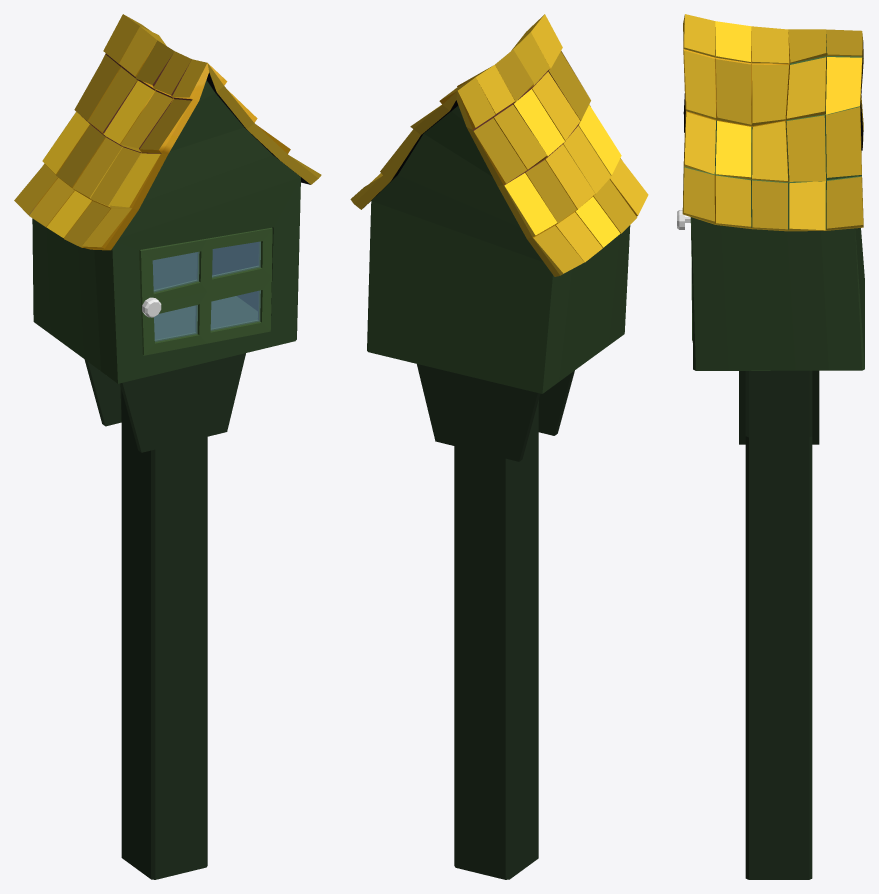
File: d8d9fec4-750f-4cf5-8914-44ebd990d819.glb
3 views of the same model, side by side, from view 1: azimuth 30°, elevation 25°; view 2: azimuth 150°, elevation 25°; view 3: azimuth 270°, elevation 25° (orthographic). The views are drawn at different scales.
Visible parts, largest first — view 1: LittleFreeLibrary; view 2: LittleFreeLibrary; view 3: LittleFreeLibrary.
Boxes of the visible parts, x1,y1,x2,y2 form: LittleFreeLibrary: [14, 14, 321, 879]; LittleFreeLibrary: [350, 14, 648, 879]; LittleFreeLibrary: [677, 14, 864, 879].
Size of what is drawn, in the model's own units: 0.402 by 1.41 by 0.2819.
Materials: 2 (2 with a texture image).
